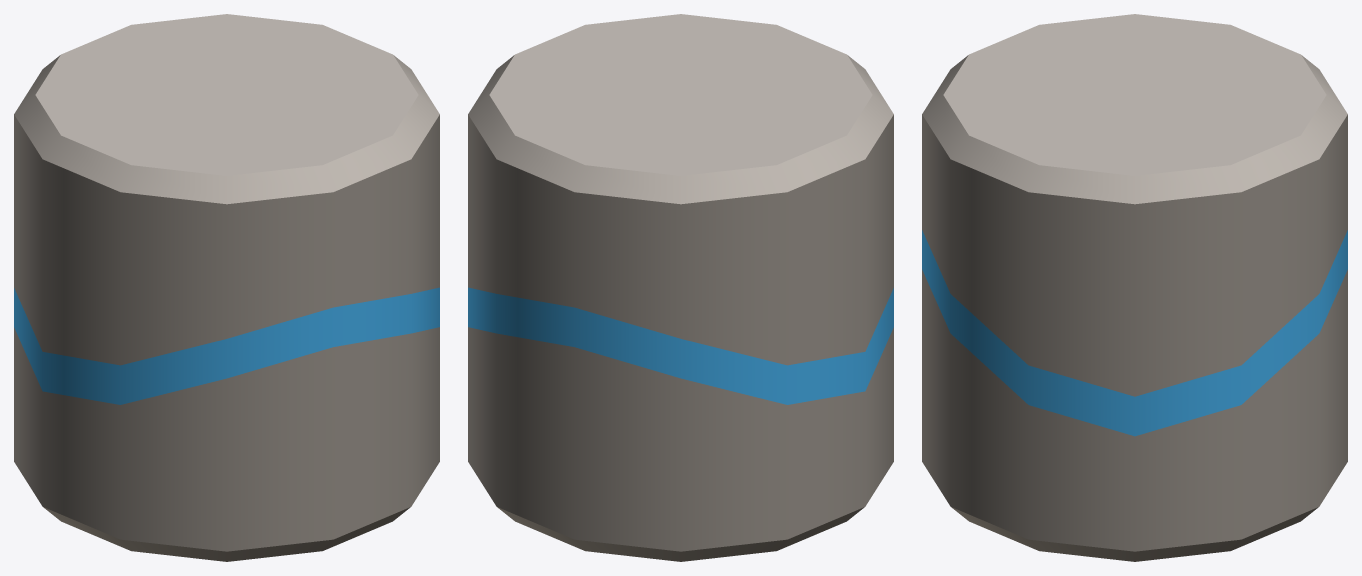
File: m_deco_pillarCylinder_waterA.FBX
3 views of the same model, side by side, from view 1: azimuth 30°, elevation 25°; view 2: azimuth 150°, elevation 25°; view 3: azimuth 270°, elevation 25° (orthographic).
Visible parts, largest first — view 1: m_deco_pillarCylinder_waterA; view 2: m_deco_pillarCylinder_waterA; view 3: m_deco_pillarCylinder_waterA.
Boxes of the visible parts, box(x1,y1,x2,y2) form: m_deco_pillarCylinder_waterA: box(14, 14, 439, 561); m_deco_pillarCylinder_waterA: box(468, 14, 893, 561); m_deco_pillarCylinder_waterA: box(922, 14, 1347, 561).
Bounding box in the file's own units: 2 × 2 × 2.
